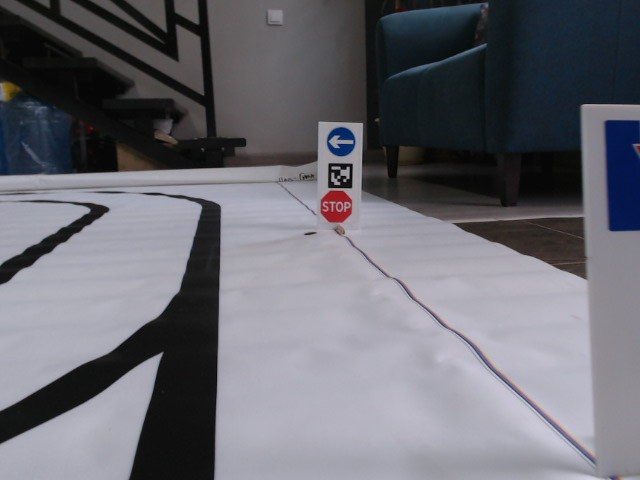Stop: (318, 189, 354, 222)
